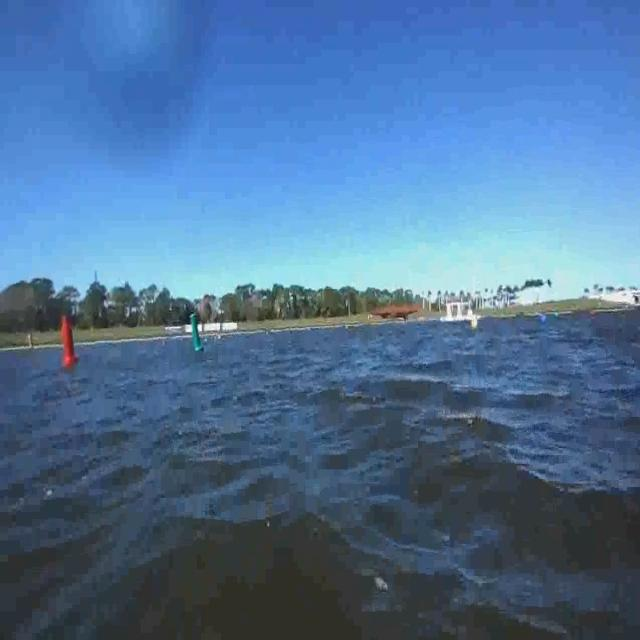green-column-buoy: (185, 308, 208, 362)
red-column-buoy: (56, 312, 80, 376)
